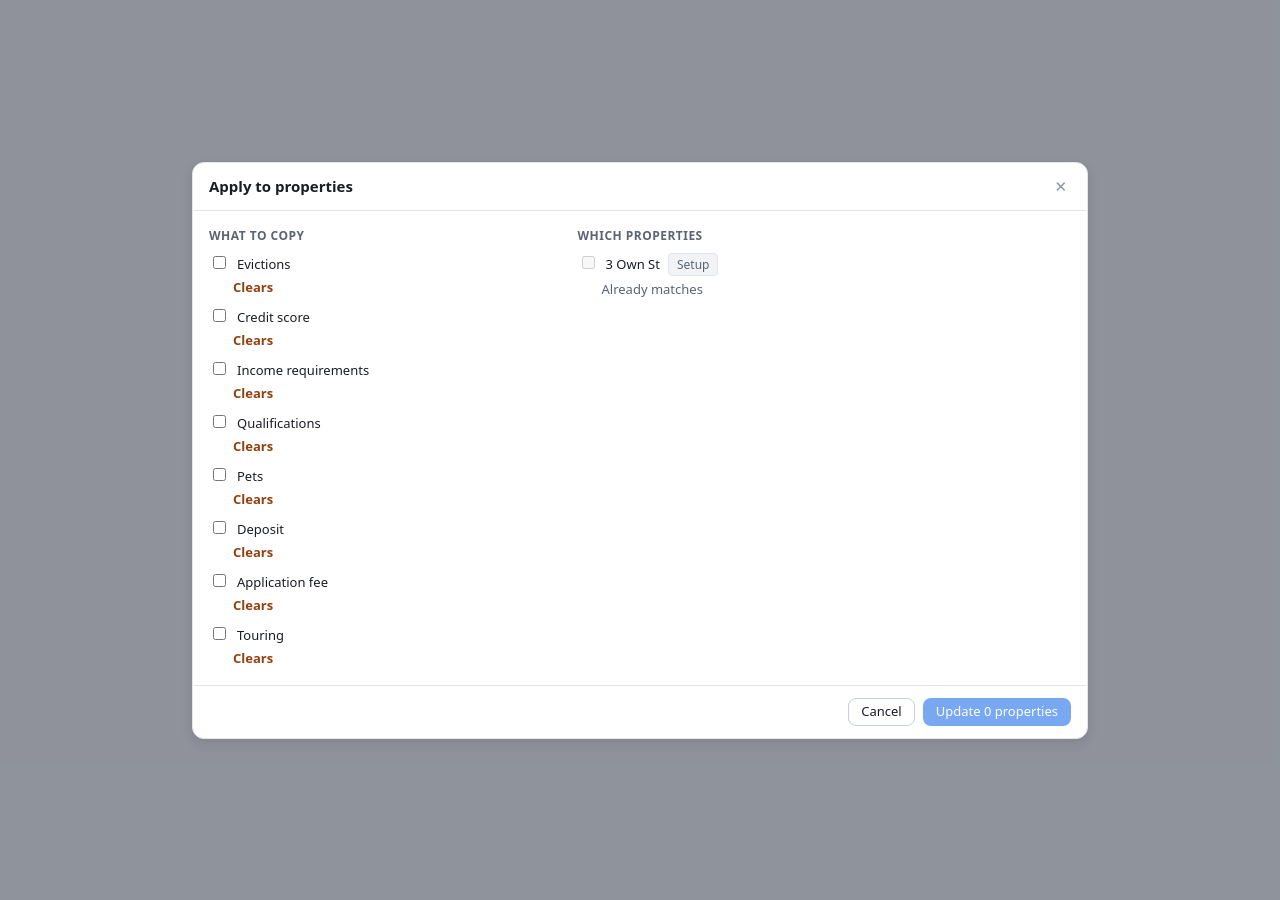
Test: ApplyRequirementsDialog - the two columns › an all-blank landlord: checking a Clears item marks existing values as own values
The width and height of the screenshot is (1280, 900).
Check: the list item "3 Own St" shows "Already matches", box x1=602 y1=280 x2=703 y2=298
Check: the button "Update 0 properties" is disabled, box x1=923 y1=698 x2=1071 y2=726
Click the checkbox labelled "Pets". click: (220, 474)
box: x1=213 y1=468 x2=226 y2=480
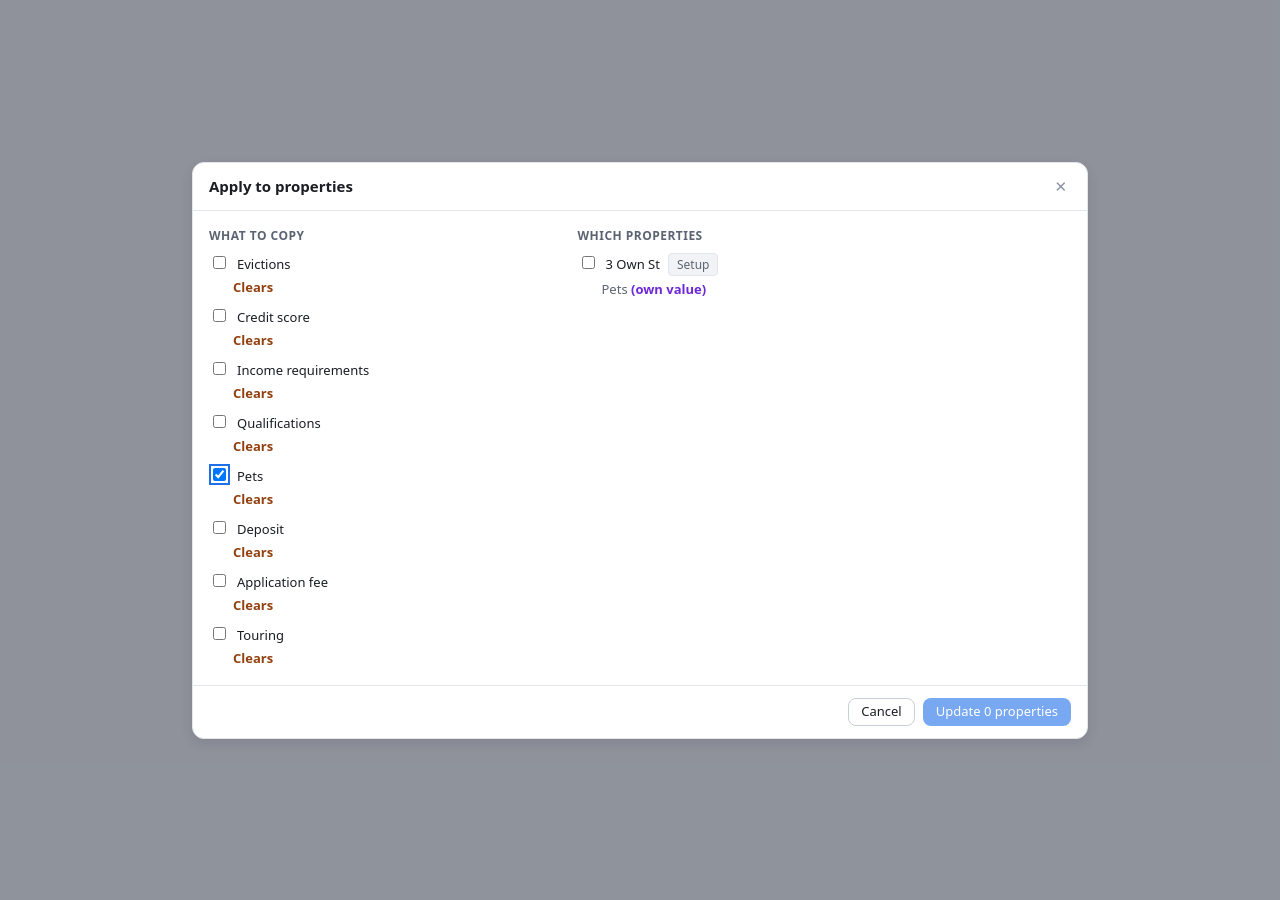
Check: the checkbox labelled "3 Own St" is not checked, box x1=582 y1=256 x2=594 y2=268
Check: the list item "3 Own St" shows "Pets (own value)", box x1=582 y1=252 x2=718 y2=298
